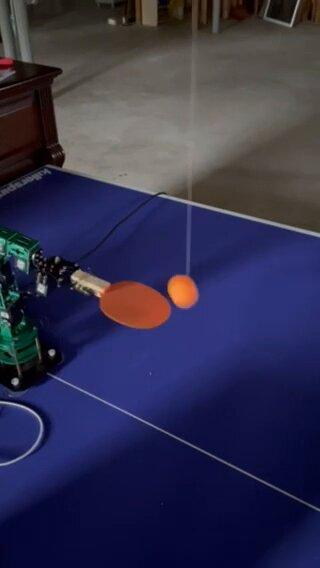oball: (168, 274, 199, 309)
